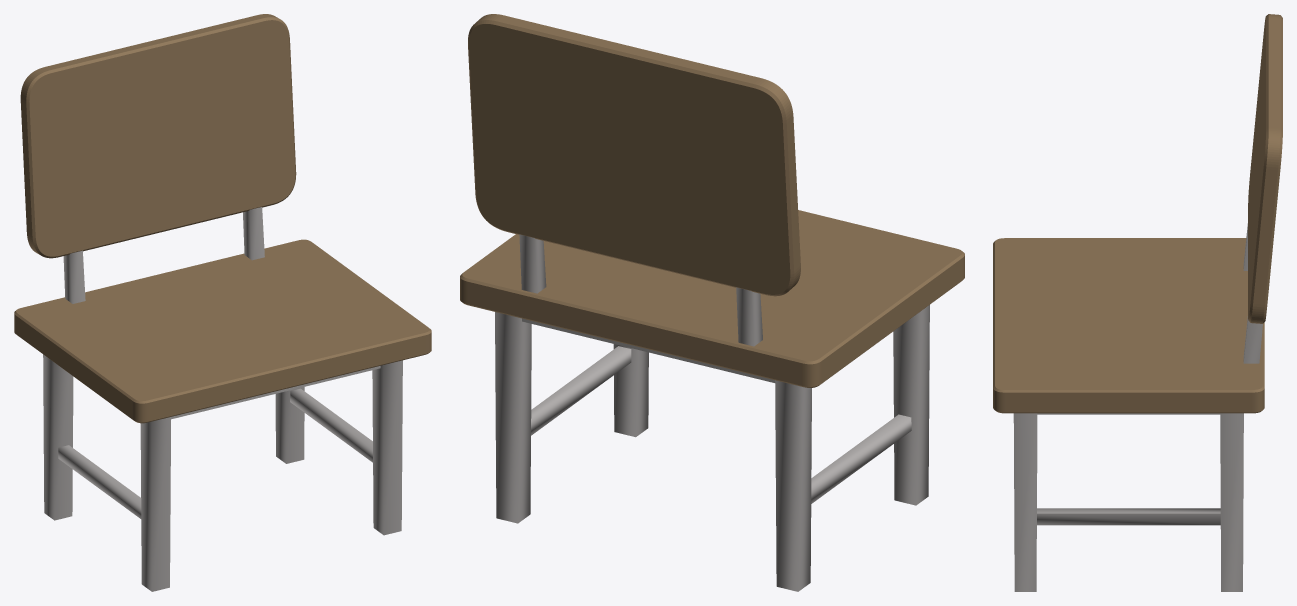
Rendered from a_wooden_chair.glb.
3 views of the same model, side by side, from view 1: azimuth 30°, elevation 25°; view 2: azimuth 150°, elevation 25°; view 3: azimuth 270°, elevation 25° (orthographic). The views are drawn at different scales.
Parts seen in each view (by area): view 1: Backrest_Panel, Seat_Slab, Chair_Leg_Front_Left, Chair_Leg_Front_Right, Chair_Leg_Rear_Left, Chair_Leg_Rear_Right, Stretcher_Rail_Left, Stretcher_Rail_Right, Backrest_Support_Left, Backrest_Support_Right, Under_Seat_Apron_Front; view 2: Backrest_Panel, Seat_Slab, Chair_Leg_Rear_Left, Chair_Leg_Rear_Right, Chair_Leg_Front_Left, Chair_Leg_Front_Right, Stretcher_Rail_Left, Stretcher_Rail_Right, Backrest_Support_Left, Backrest_Support_Right, Under_Seat_Apron_Rear; view 3: Seat_Slab, Backrest_Panel, Chair_Leg_Rear_Right, Chair_Leg_Front_Right, Stretcher_Rail_Right, Backrest_Support_Right.
Part boxes in pixels (<box>): Backrest_Panel: <box>20,14,296,258</box>; Seat_Slab: <box>14,239,431,423</box>; Chair_Leg_Front_Left: <box>140,417,171,591</box>; Chair_Leg_Front_Right: <box>372,360,402,535</box>; Chair_Leg_Rear_Left: <box>43,354,73,520</box>; Chair_Leg_Rear_Right: <box>275,387,304,463</box>; Stretcher_Rail_Left: <box>58,445,141,518</box>; Stretcher_Rail_Right: <box>290,388,372,462</box>; Backrest_Support_Left: <box>63,250,85,303</box>; Backrest_Support_Right: <box>243,207,264,260</box>; Under_Seat_Apron_Front: <box>171,366,380,419</box>; Backrest_Panel: <box>468,14,800,296</box>; Seat_Slab: <box>460,210,964,387</box>; Chair_Leg_Rear_Left: <box>775,380,811,591</box>; Chair_Leg_Rear_Right: <box>495,312,531,523</box>; Chair_Leg_Front_Left: <box>893,305,929,505</box>; Chair_Leg_Front_Right: <box>613,344,648,437</box>; Stretcher_Rail_Left: <box>811,414,911,503</box>; Stretcher_Rail_Right: <box>531,346,631,435</box>; Backrest_Support_Left: <box>736,287,762,346</box>; Backrest_Support_Right: <box>519,234,546,293</box>; Under_Seat_Apron_Rear: <box>522,318,775,382</box>; Seat_Slab: <box>993,238,1264,413</box>; Backrest_Panel: <box>1248,14,1282,323</box>; Chair_Leg_Rear_Right: <box>1220,413,1243,591</box>; Chair_Leg_Front_Right: <box>1013,413,1037,591</box>; Stretcher_Rail_Right: <box>1037,508,1220,525</box>; Backrest_Support_Right: <box>1243,316,1262,363</box>.
Size of the model in its own units: 0.7306 by 1.01 by 0.5833.
